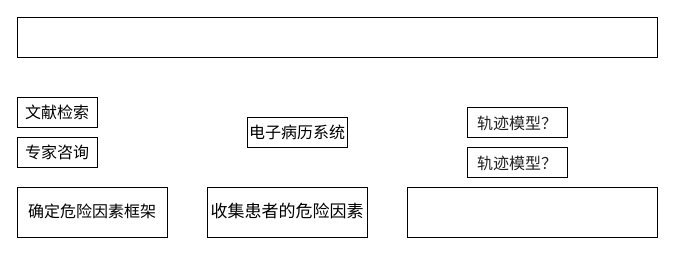
The diagram is 675 pixels wide and 255 high, and some of its shapes have lost their labels. The shapes that lost their labels are listed below. From the top down, each one's centre as x and y in pixels, then its label:
At [337,37]: "基于电子病历数据挖掘肝硬化继发AKI的危险因素".
At [532,212]: "分析危险因素变化轨迹与AKI发生之间的关联性".
